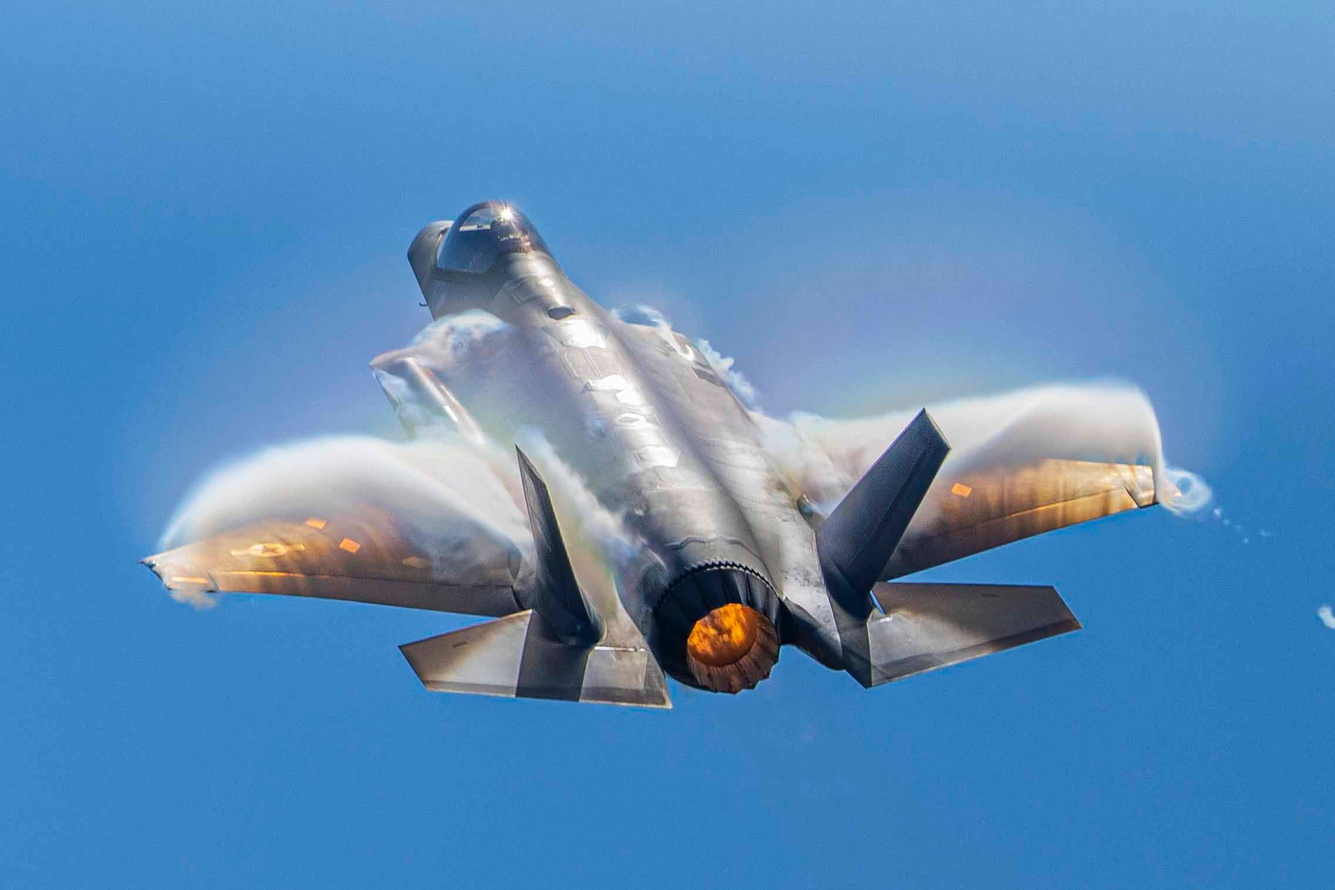F35: (135, 187, 1202, 716)
